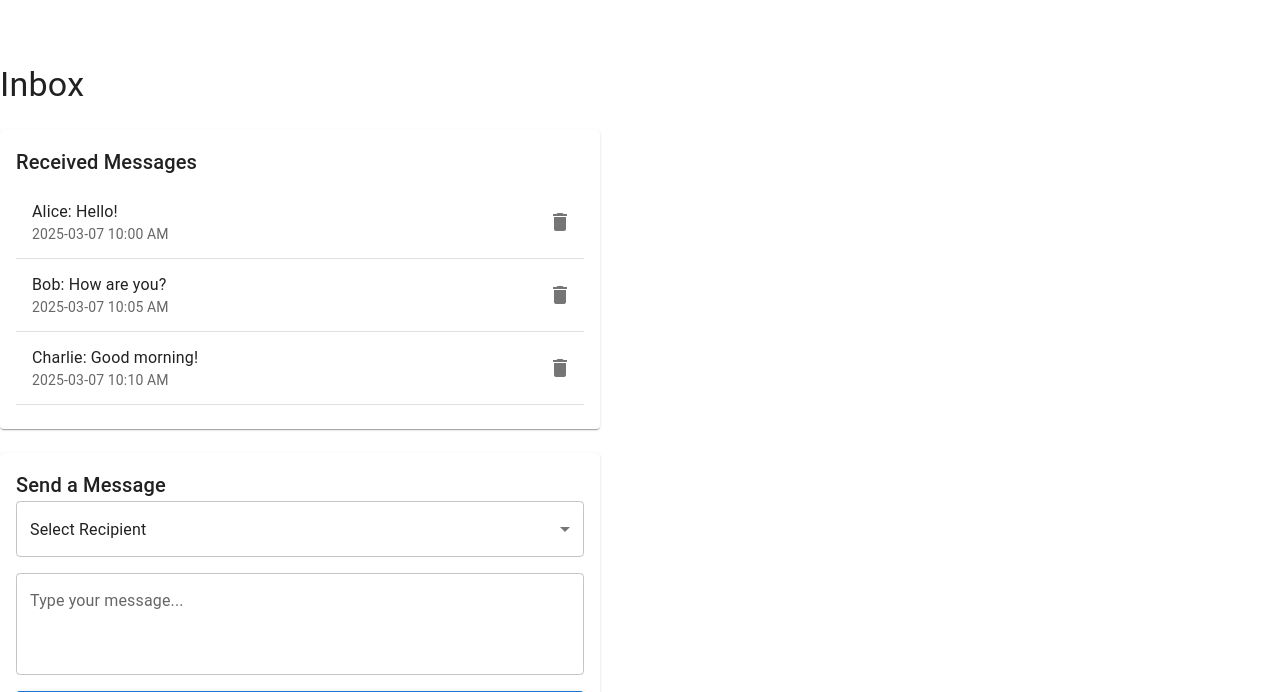
Test case: Inbox Component › opens delete confirmation dialog
// Click the delete icon of the first message
Click the button named "delete" in the row of "Alice: Hello!" at (560, 222), box 540,202 -> 580,242
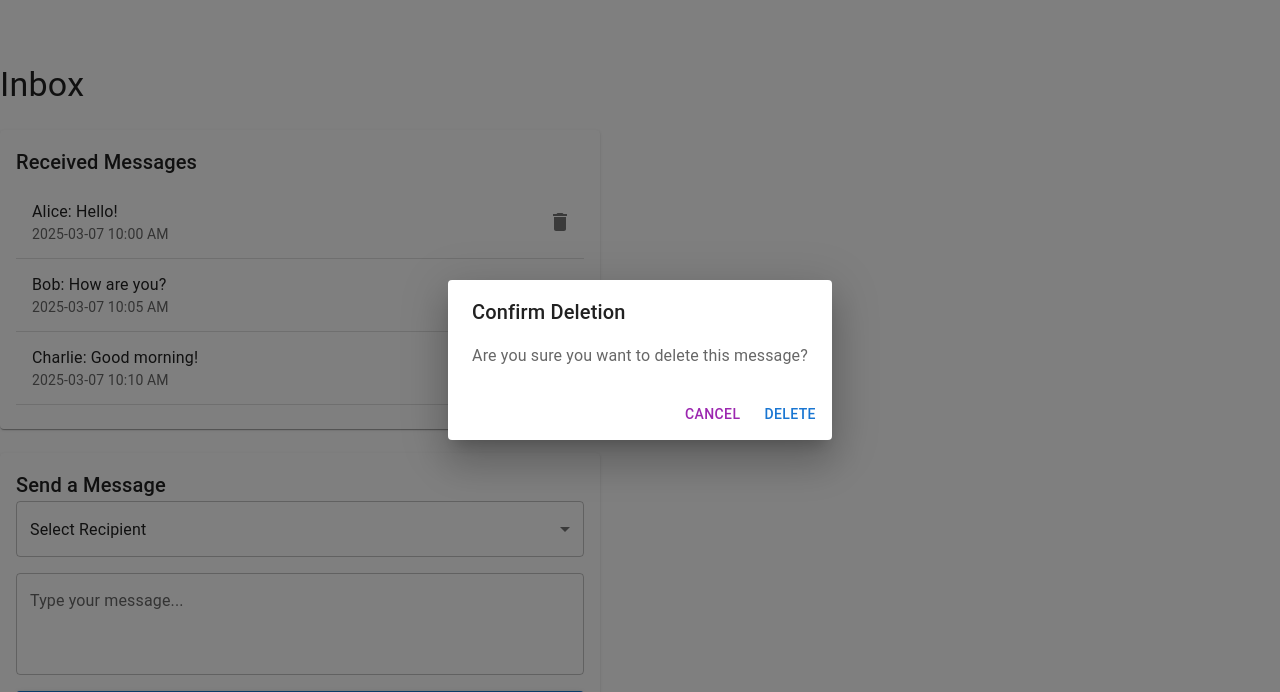
expect the heading "Confirm Deletion" is shown: met, box 472,300 -> 626,324
